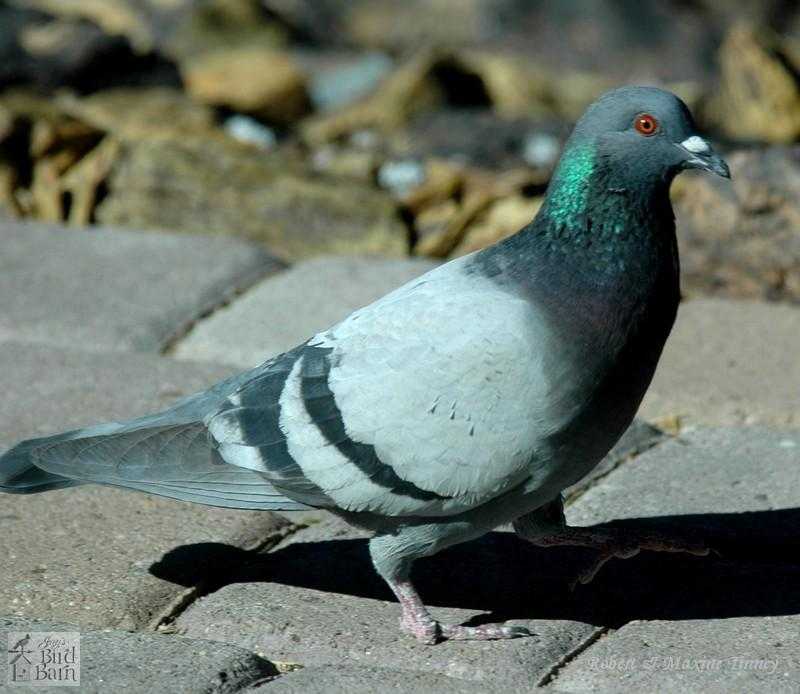Flying Rat: (27, 84, 735, 635)
